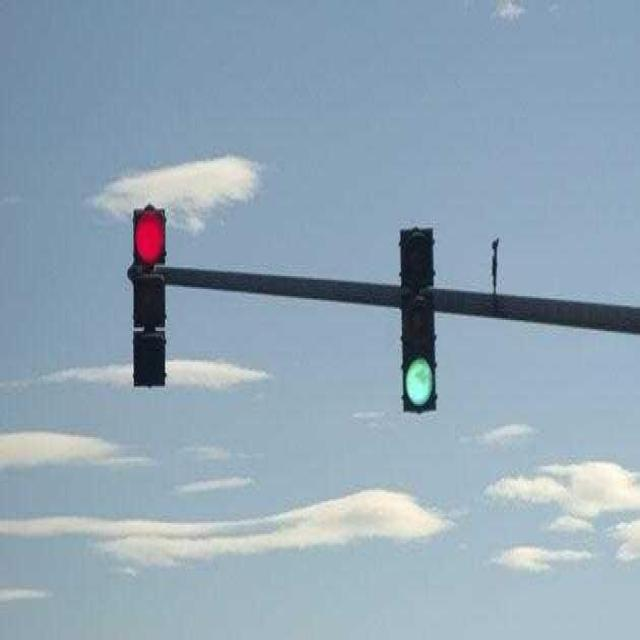Traffic Light -Green-: (396, 220, 438, 419)
Traffic Light -Red-: (129, 199, 171, 391)
